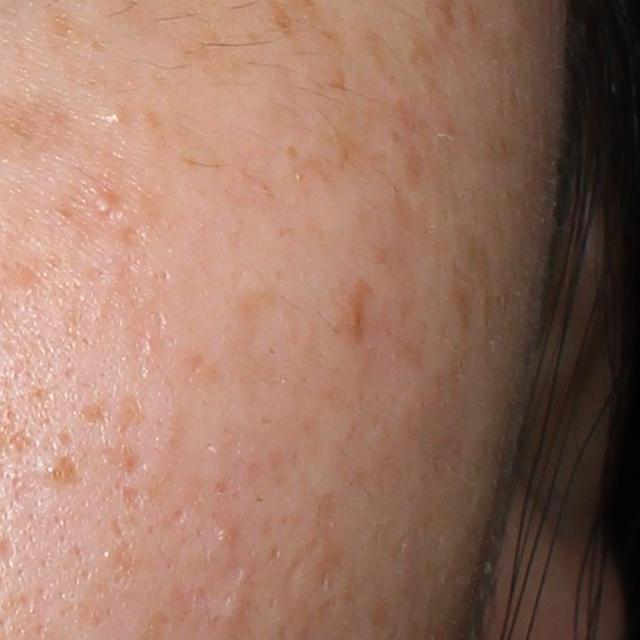atrophic_scar: (122, 482, 140, 511)
comedo: (34, 453, 75, 486)
melasma: (336, 280, 382, 351), (325, 126, 384, 177), (444, 271, 482, 340), (360, 28, 393, 80), (402, 31, 442, 71), (271, 0, 301, 47), (324, 65, 352, 98), (285, 143, 301, 163)
